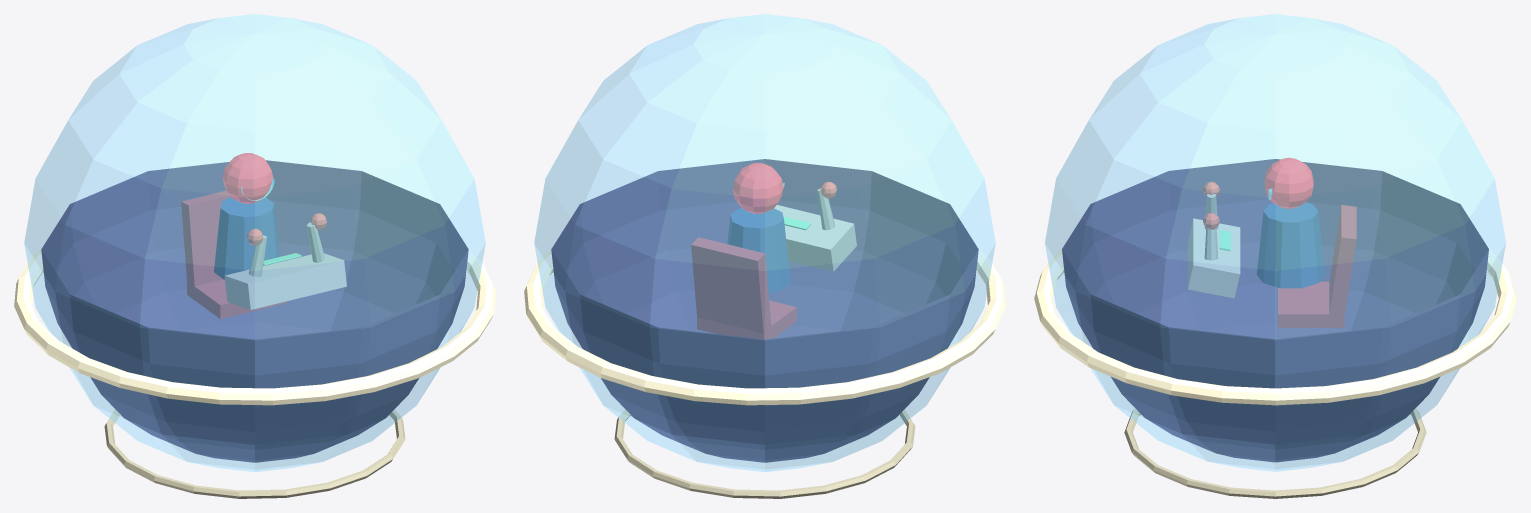
Rendered from bubblePod.glb.
3 views of the same model, side by side, from view 1: azimuth 30°, elevation 25°; view 2: azimuth 150°, elevation 25°; view 3: azimuth 270°, elevation 25° (orthographic).
Parts seen in each view (by area): view 1: bubble-shell, purple-lower-cabin, equatorial-ring, cockpit-console, pilot-body, bottom-ring, pilot-seat-back, pilot-helmet, pilot-seat-base; view 2: bubble-shell, purple-lower-cabin, equatorial-ring, pilot-seat-back, bottom-ring, cockpit-console, pilot-body, pilot-helmet, pilot-seat-base; view 3: bubble-shell, purple-lower-cabin, equatorial-ring, pilot-body, bottom-ring, cockpit-console, pilot-seat-base, pilot-seat-back, pilot-helmet.
Boxes of the visible parts, box(x1,y1,x2,y2) form: bubble-shell: box(24, 14, 485, 471); purple-lower-cabin: box(41, 160, 468, 462); equatorial-ring: box(14, 250, 495, 405); cockpit-console: box(224, 253, 346, 309); pilot-body: box(214, 197, 279, 279); bottom-ring: box(104, 409, 405, 498); pilot-seat-back: box(181, 190, 230, 286); pilot-helmet: box(222, 153, 273, 203); pilot-seat-base: box(187, 279, 286, 318); bubble-shell: box(534, 14, 995, 471); purple-lower-cabin: box(551, 159, 978, 462); equatorial-ring: box(524, 250, 1005, 405); pilot-seat-back: box(691, 237, 771, 332); bottom-ring: box(614, 409, 915, 498); cockpit-console: box(774, 205, 856, 271); pilot-body: box(727, 208, 790, 293); pilot-helmet: box(732, 163, 783, 213); pilot-seat-base: box(697, 300, 796, 339); bubble-shell: box(1045, 14, 1505, 471); purple-lower-cabin: box(1062, 159, 1488, 462); equatorial-ring: box(1034, 248, 1516, 405); pilot-body: box(1256, 202, 1324, 288); bottom-ring: box(1124, 408, 1426, 498); cockpit-console: box(1187, 218, 1240, 298); pilot-seat-base: box(1278, 281, 1344, 327); pilot-seat-back: box(1329, 205, 1356, 321); pilot-helmet: box(1264, 157, 1313, 208).
Size of the model in its own units: 4.07 by 3.89 by 4.07.
